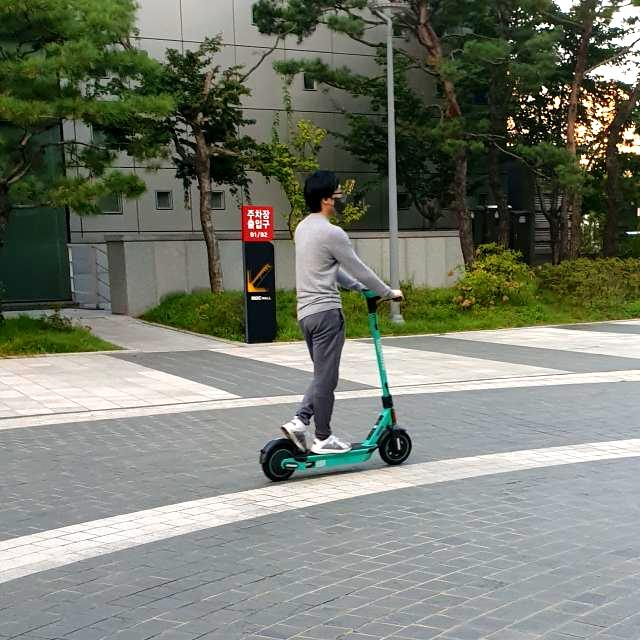bare_head: (289, 153, 379, 237)
human: (273, 146, 368, 454)
kickboard: (246, 410, 484, 514)
